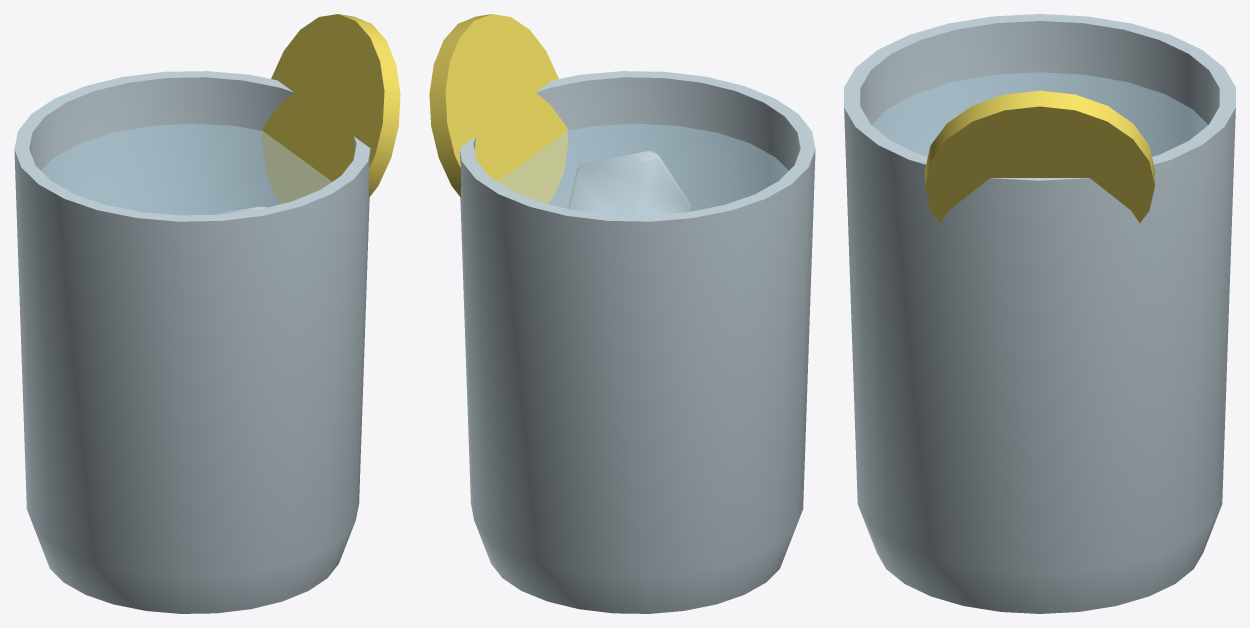
The model's file is drink_water_glass_ice_lemon.glb.
3 renders of one model, left to right at view 1: azimuth 30°, elevation 25°; view 2: azimuth 150°, elevation 25°; view 3: azimuth 270°, elevation 25°, orthographic. The views are drawn at different scales.
Visible parts, largest first — view 1: drink_water_glass_ice_lemon; view 2: drink_water_glass_ice_lemon; view 3: drink_water_glass_ice_lemon.
Part boxes in pixels (left/top/right/bottom): drink_water_glass_ice_lemon: left=14, top=14, right=400, bottom=613; drink_water_glass_ice_lemon: left=429, top=14, right=815, bottom=613; drink_water_glass_ice_lemon: left=844, top=14, right=1235, bottom=613.
Size of the model in its own units: 0.0776 by 0.109 by 0.0715.
